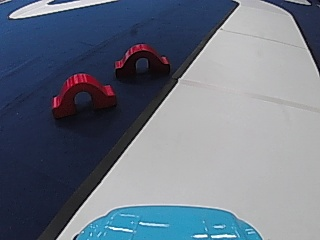bridge: (49, 69, 117, 117), (112, 39, 170, 81)
